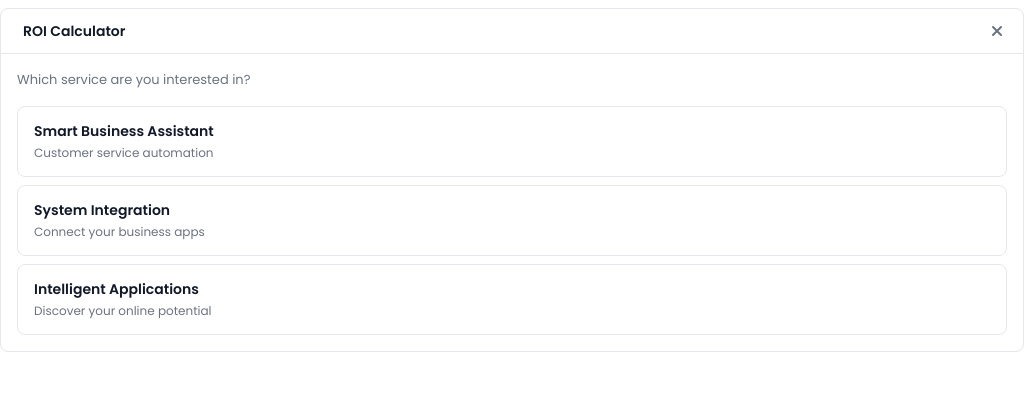
Test: ROICalculatorForm › Step Navigation › should advance to step 2 with valid step 1 data
Select Service
Click the button "Smart Business Assistant Customer service automation" at [124, 130], box top-left (17, 106), bottom-right (1007, 176)
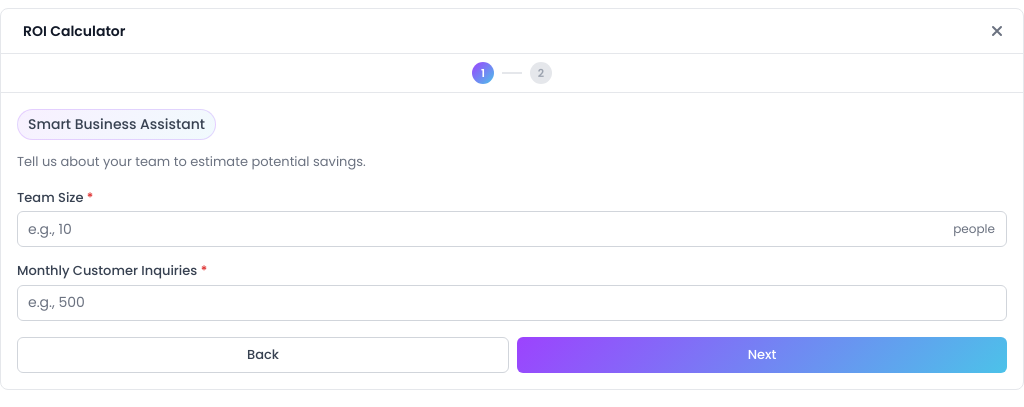
Fill step 1
Type "10" into the number field labelled "Team Size" at [512, 229], box top-left (17, 211), bottom-right (1007, 247)
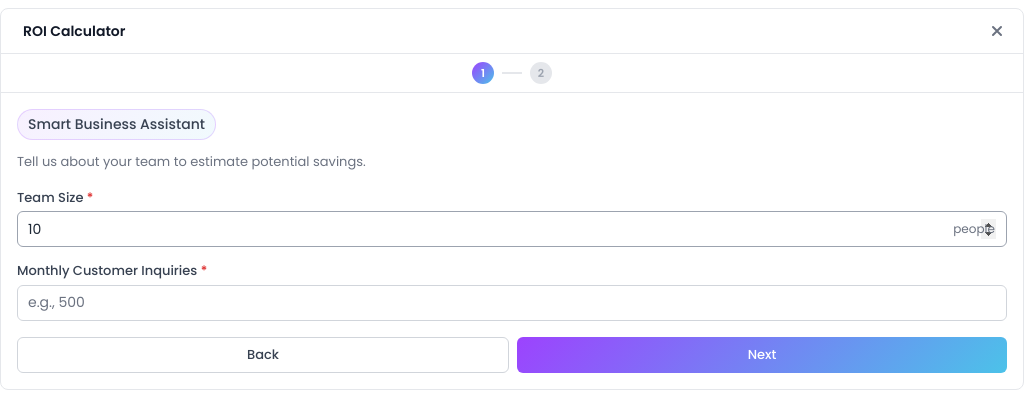
Type "500" into the number field labelled "Monthly Customer Inquiries" at [512, 302], box top-left (17, 284), bottom-right (1007, 320)
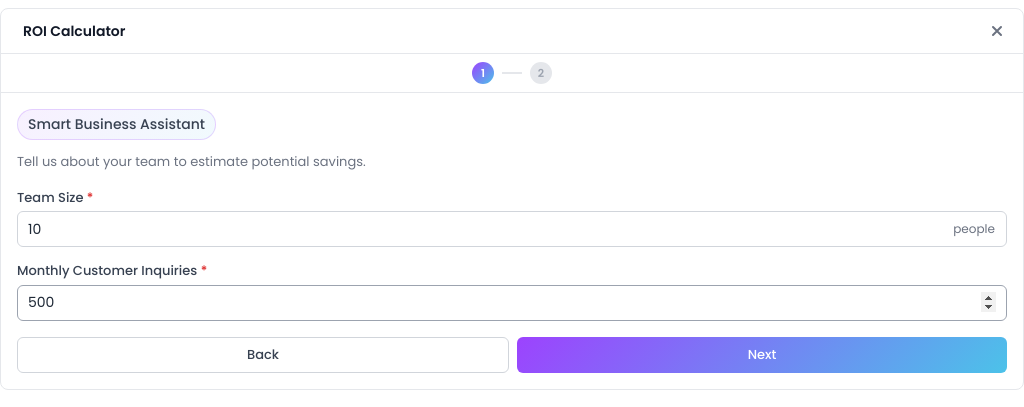
Click Next
Click the button "Next" at [762, 354], box top-left (517, 336), bottom-right (1007, 372)
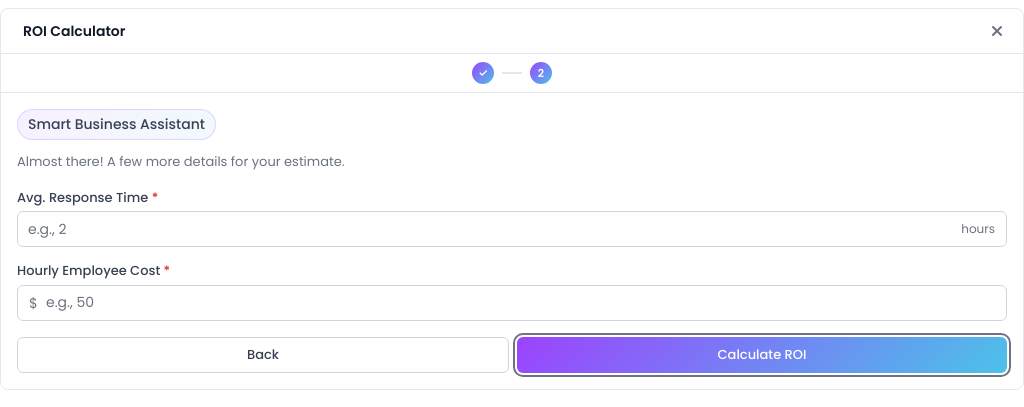
Expected: the button "Back" is shown, top-left (17, 336), bottom-right (509, 372)
Expected: the number field labelled "Avg. Response Time" is shown, top-left (17, 211), bottom-right (1007, 247)
Expected: the number field labelled "Hourly Employee Cost" is shown, top-left (17, 284), bottom-right (1007, 320)
